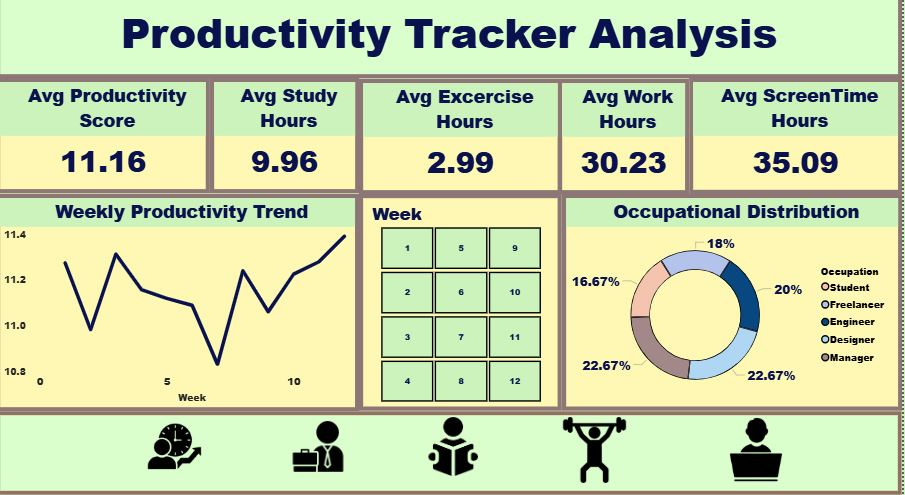

The page's visual inventory and layout, read from the dashboard file:
{"tool":"powerbi","page":{"name":"Executive Summary","canvas":[1305,720],"ordinal":0},"visuals":[{"type":"textbox","box":[0,0,1304.6,119.5],"z":0},{"type":"card","title":"Avg Productivity Score","fields":{"Values":["Measures .Average Productivity Score"]},"box":[0,119.5,308.2,165.6],"z":1000},{"type":"card","title":"Avg Study Hours","fields":{"Values":["Measures .Average studying Hours"]},"box":[308.2,119.5,214.6,165.6],"z":2000},{"type":"card","title":"Avg ScreenTime Hours","fields":{"Values":["Measures .Average screentime hours"]},"box":[997.9,119.5,306.7,167],"z":3000},{"type":"card","title":"Avg Excercise Hours","fields":{"Values":["Measures .Average Excercising Hours"]},"box":[522.7,121,292.3,165.6],"z":4000},{"type":"card","title":"Avg Work Hours","fields":{"Values":["Measures .Average Work hours"]},"box":[809.3,121,188.6,165.6],"z":5000},{"type":"lineChart","title":"Weekly Productivity Trend","fields":{"Category":["Productivity Table.Week"],"Y":["Measures .Average Productivity Score"]},"box":[0,285.9,522.7,312.9],"z":6000},{"type":"donutChart","title":"Occupational Distribution","fields":{"Category":["Productivity Table.Occupation"],"Y":["Measures .Total Users"]},"box":[815,286.6,489.6,312.5],"z":7000},{"type":"slicer","fields":{"Values":["Productivity Table.Week"]},"box":[522.7,286.6,292.3,312.5],"z":8000},{"type":"shape","box":[0,599,1304.6,121],"z":9000},{"type":"image","box":[0,589,514.1,122.4],"z":10000},{"type":"image","box":[367.2,589,193,122.4],"z":11000},{"type":"image","box":[578.9,607.7,159.8,85],"z":12000},{"type":"image","box":[783.4,607.7,157,95],"z":13000},{"type":"image","box":[1025.3,593.3,138.2,122.4],"z":14000}]}

Visuals, with their boxes in screenshot pixels (x1, y1, x2, y2), scaled from the page's 1305x720 canvas onto the 905x495 screenshot:
textbox: x1=0 y1=0 x2=904 y2=82
"Avg Productivity Score" card: x1=0 y1=82 x2=214 y2=196
"Avg Study Hours" card: x1=214 y1=82 x2=363 y2=196
"Avg ScreenTime Hours" card: x1=692 y1=82 x2=904 y2=197
"Avg Excercise Hours" card: x1=362 y1=83 x2=565 y2=197
"Avg Work Hours" card: x1=561 y1=83 x2=692 y2=197
"Weekly Productivity Trend" lineChart: x1=0 y1=197 x2=362 y2=412
"Occupational Distribution" donutChart: x1=565 y1=197 x2=904 y2=412
slicer - Productivity Table.Week: x1=362 y1=197 x2=565 y2=412
shape: x1=0 y1=412 x2=904 y2=494
image: x1=0 y1=405 x2=357 y2=489
image: x1=255 y1=405 x2=388 y2=489
image: x1=401 y1=418 x2=512 y2=476
image: x1=543 y1=418 x2=652 y2=483
image: x1=711 y1=408 x2=807 y2=492
